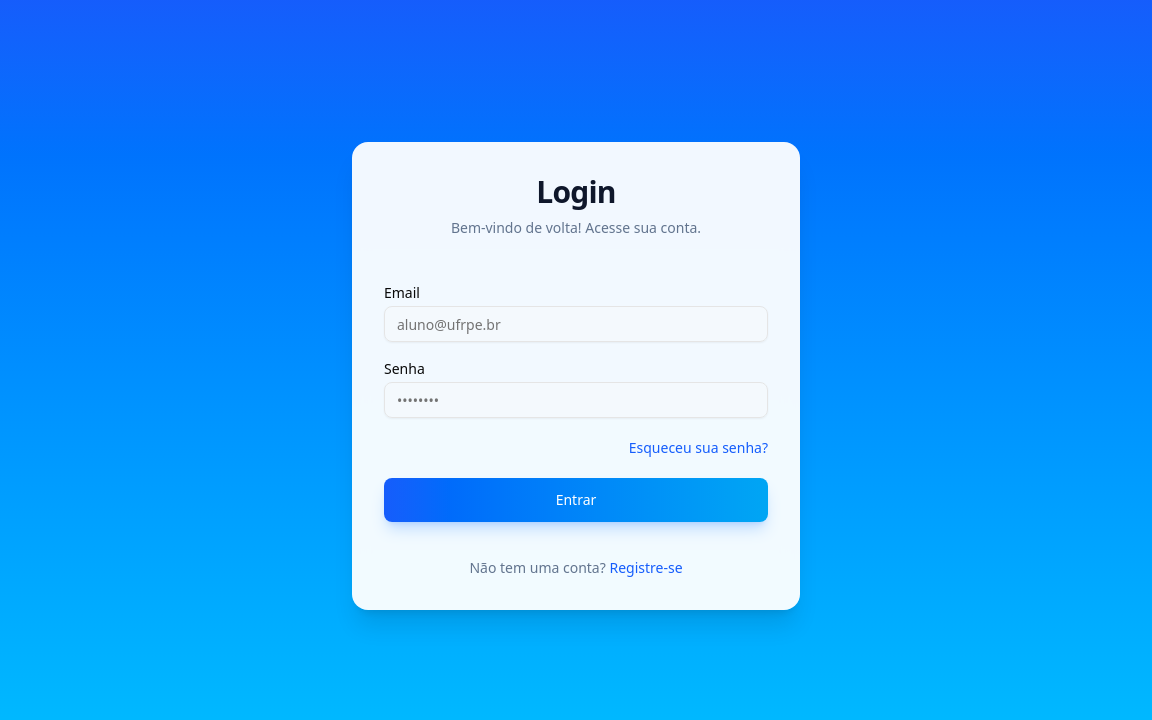
Test: Fluxo de Login › Deve exibir erro ao inserir credenciais inválidas
The image size is (1152, 720).
Type "errado@ufrpe.br" into the field with test id "email-input" at (576, 324), box [384, 306, 768, 342]
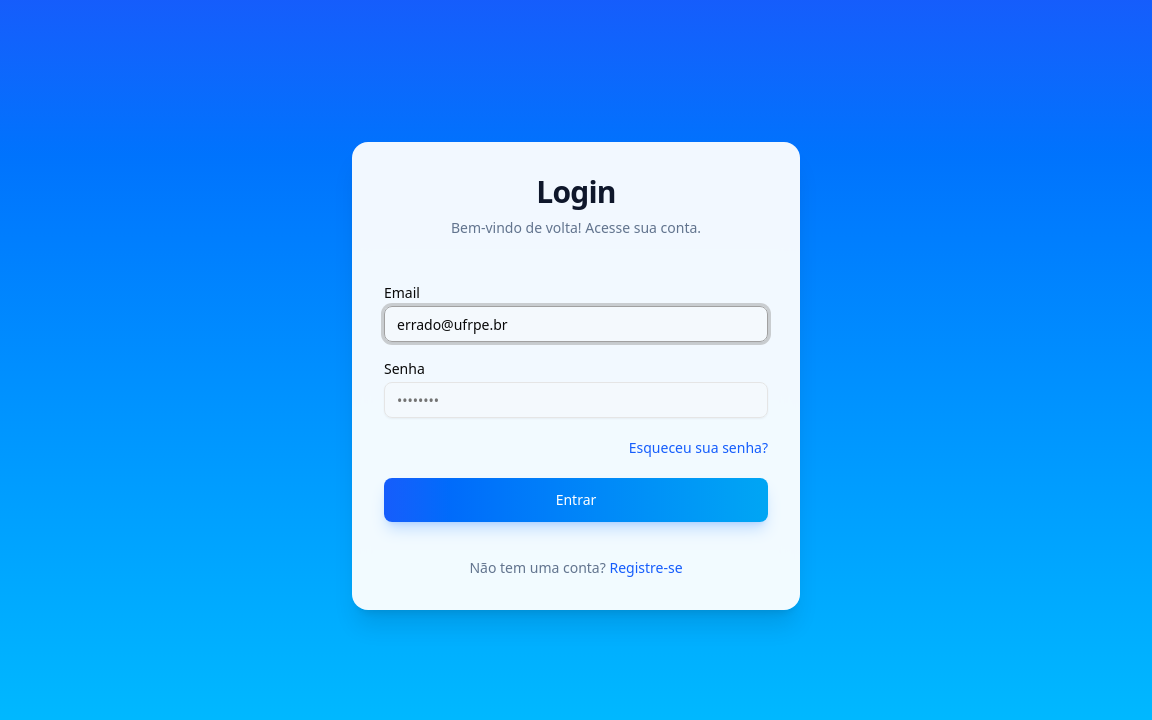
Type "senhaerrada" into the password field with test id "password-input" at (576, 400), box [384, 382, 768, 418]
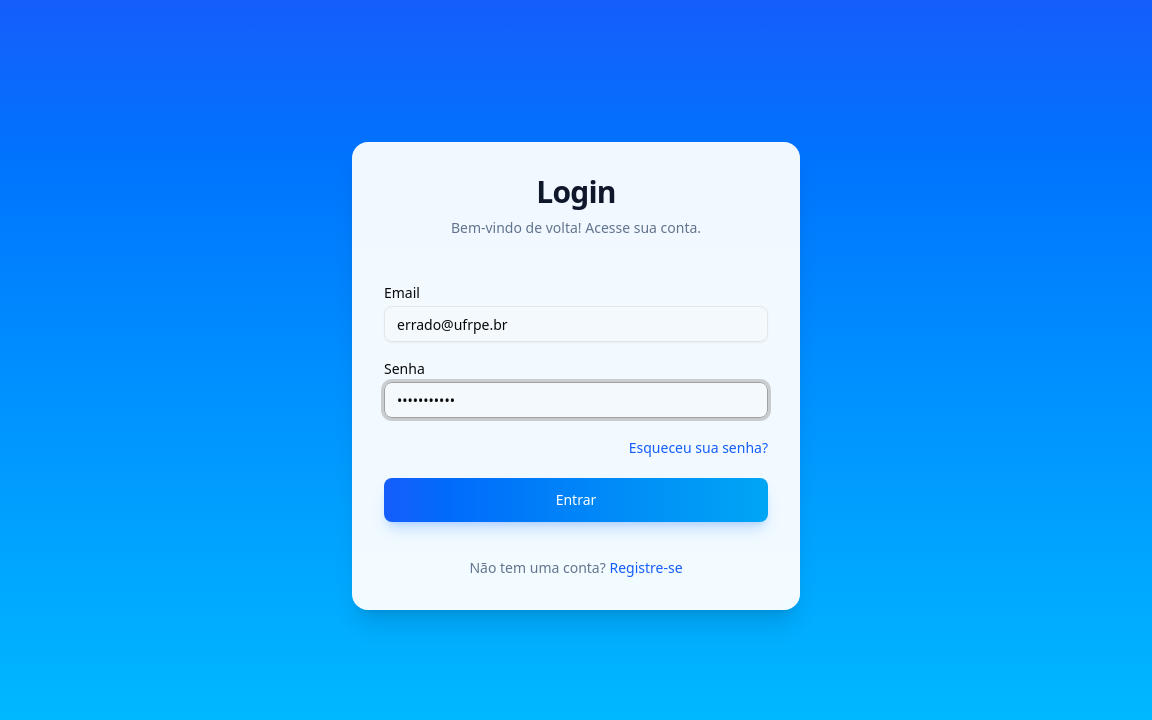
Click the button with test id "login-submit-btn" at (576, 500), box [384, 478, 768, 522]
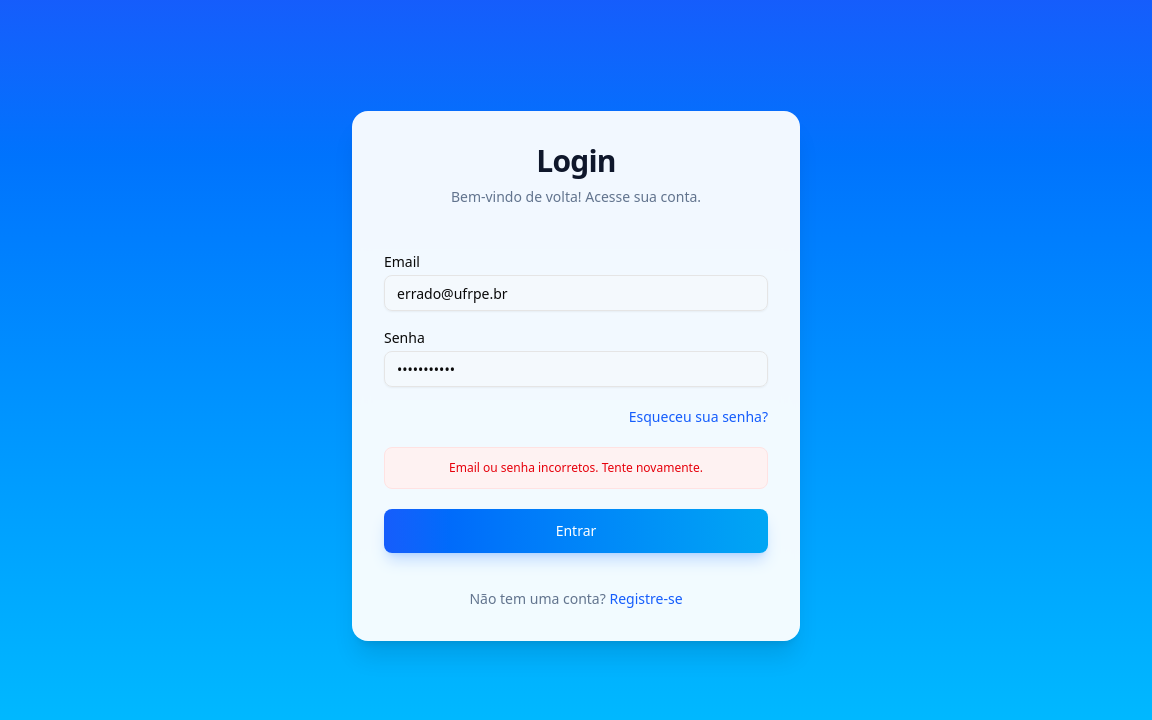
Now the text "Email ou senha incorretos. Tente novamente." is shown, box [384, 447, 768, 489]
Now the text with test id "login-error-msg" shows "Email ou senha incorretos", box [449, 459, 703, 476]
